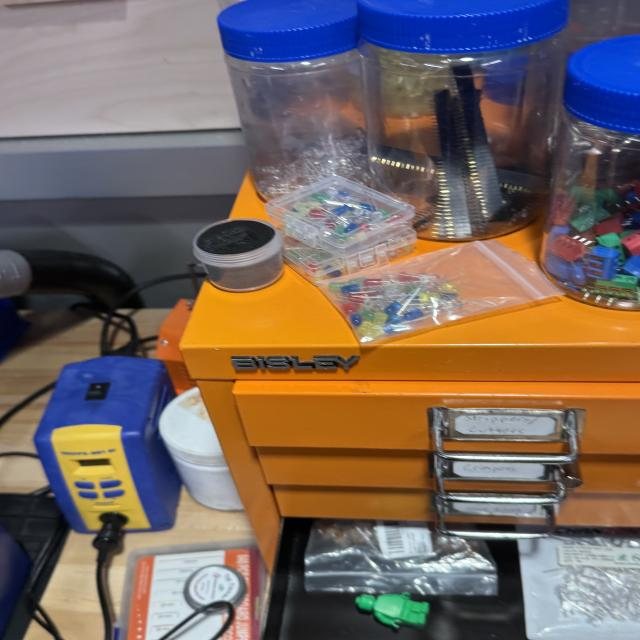Green Mini Figure: (355, 592, 430, 630)
